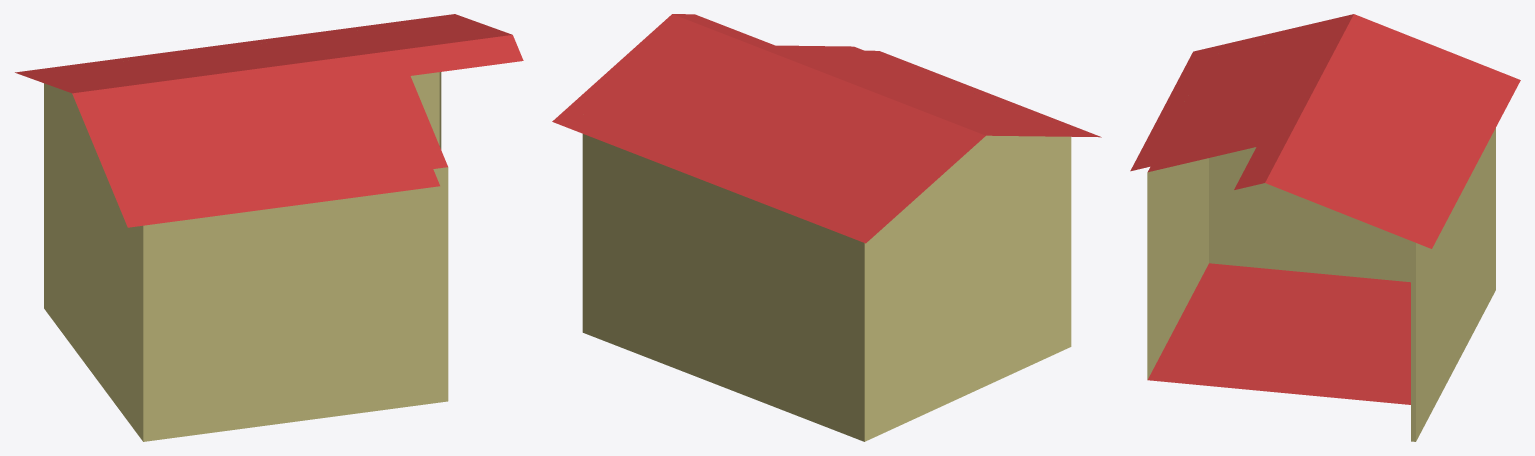
3 renders of one model, left to right at view 1: azimuth 30°, elevation 25°; view 2: azimuth 150°, elevation 25°; view 3: azimuth 270°, elevation 25°, orthographic. The views are drawn at different scales.
Size of the model in its own units: 16.92 by 13.98 by 10.02.
